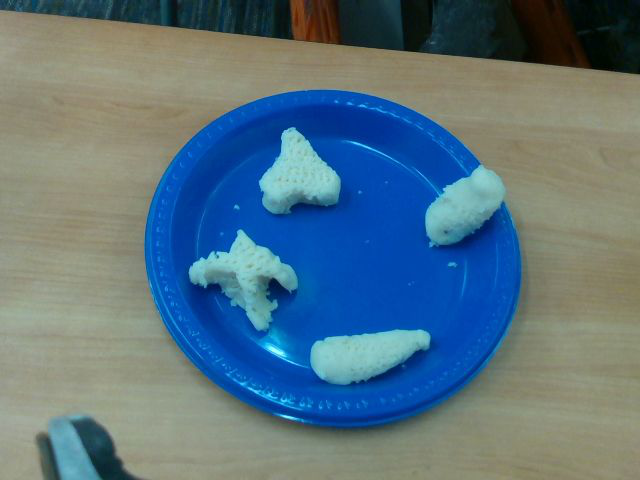mashed_potato: (188, 230, 297, 330), (260, 128, 341, 213), (310, 330, 431, 384), (425, 165, 505, 246)
